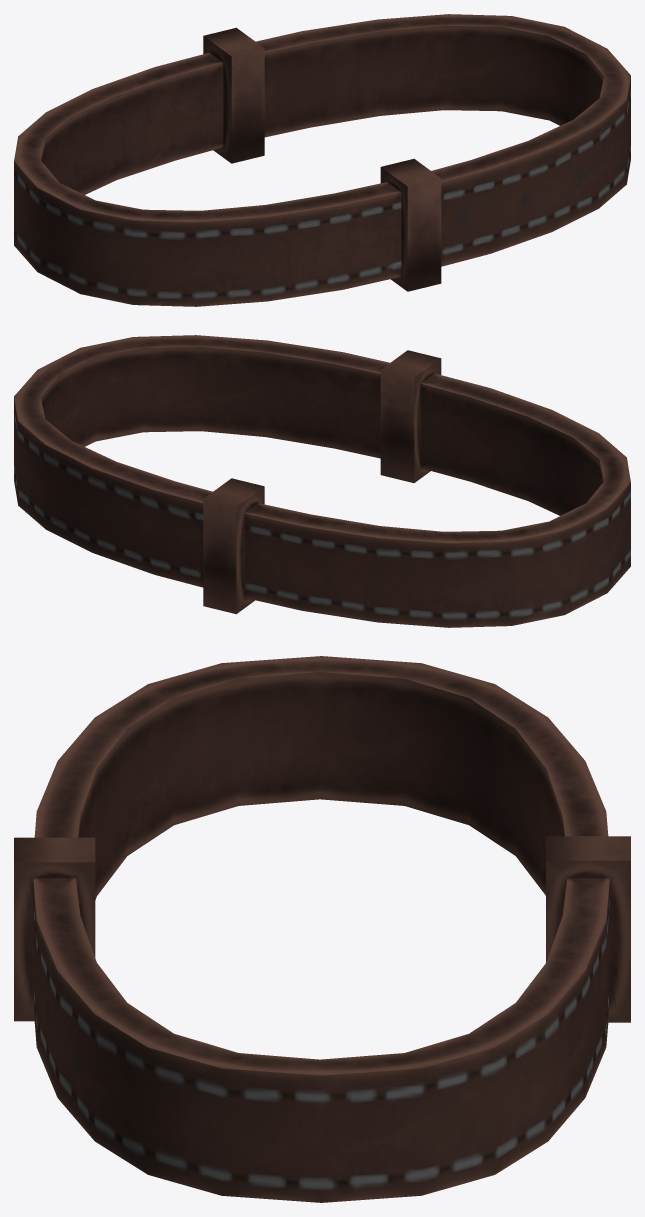
Rendered from FullStrap_Oval.fbx.
3 renders of one model, top to bottom at view 1: azimuth 30°, elevation 25°; view 2: azimuth 150°, elevation 25°; view 3: azimuth 270°, elevation 25°, orthographic. The views are drawn at different scales.
Visible parts, largest first — view 1: FullStrap_Oval_LOD0; view 2: FullStrap_Oval_LOD0; view 3: FullStrap_Oval_LOD0.
Part boxes in pixels (x1,y1,x2,y2): FullStrap_Oval_LOD0: (14, 14, 630, 306); FullStrap_Oval_LOD0: (14, 335, 630, 627); FullStrap_Oval_LOD0: (14, 656, 630, 1202).
Size of what is drawn, in the model's own units: 89.42 by 16.09 by 55.57.
